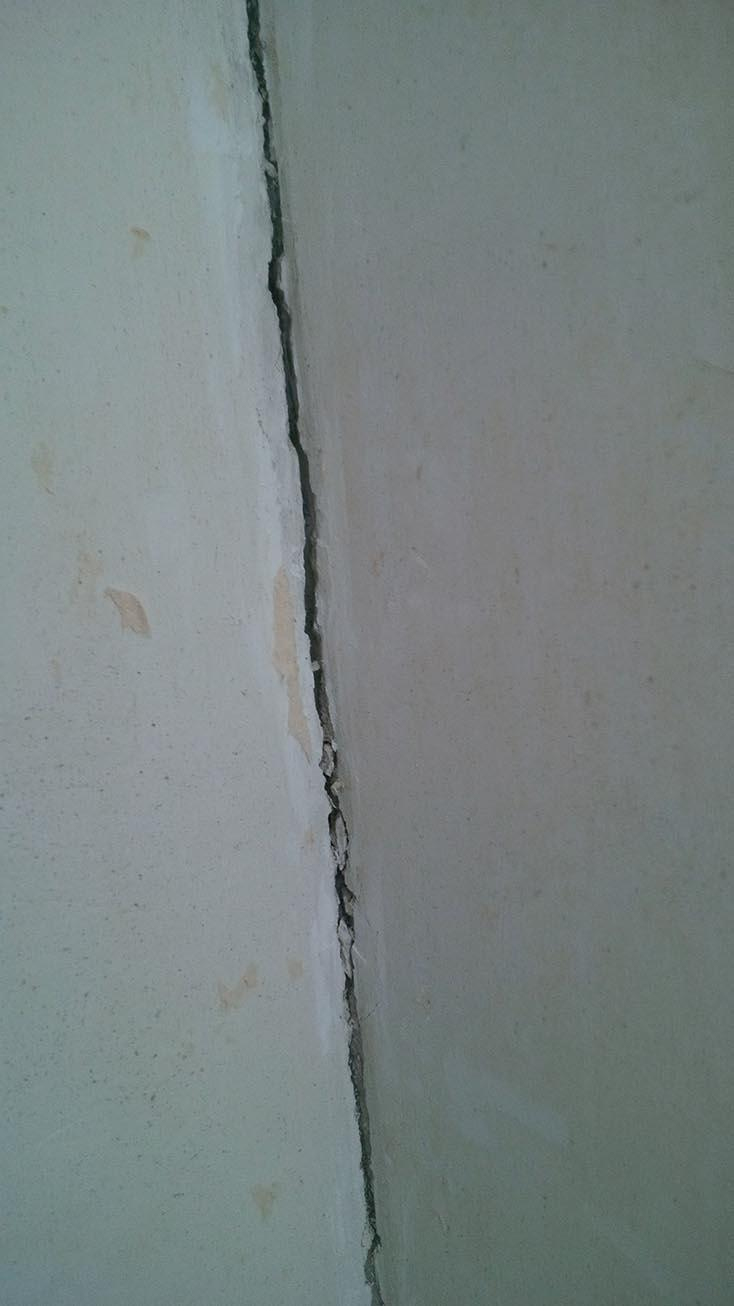crack: (246, 0, 390, 1306)
